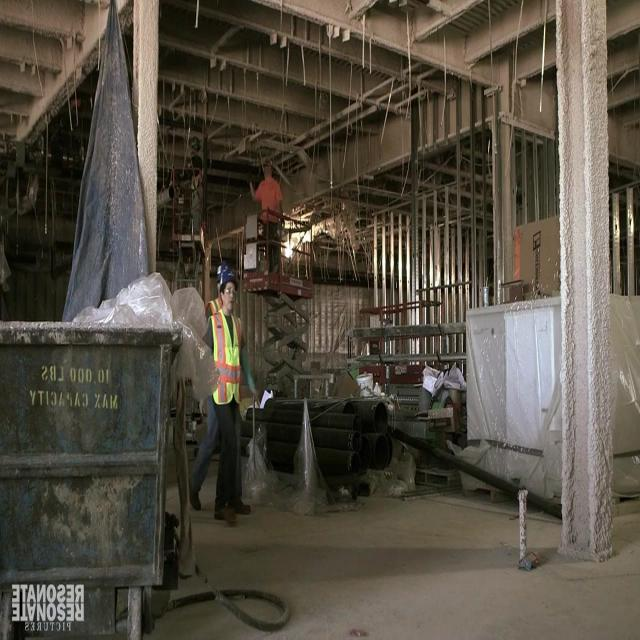Reflective-Jacket: (199, 302, 251, 417)
